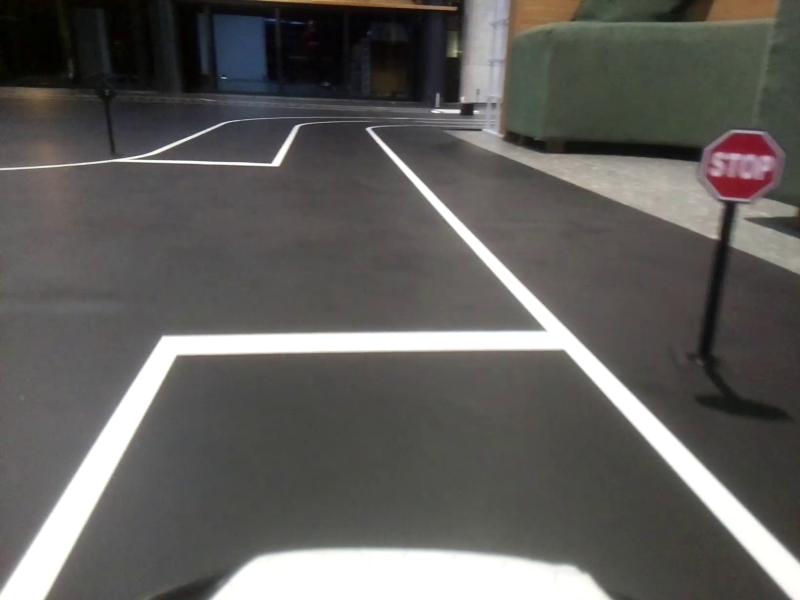stop: (702, 130, 782, 202)
